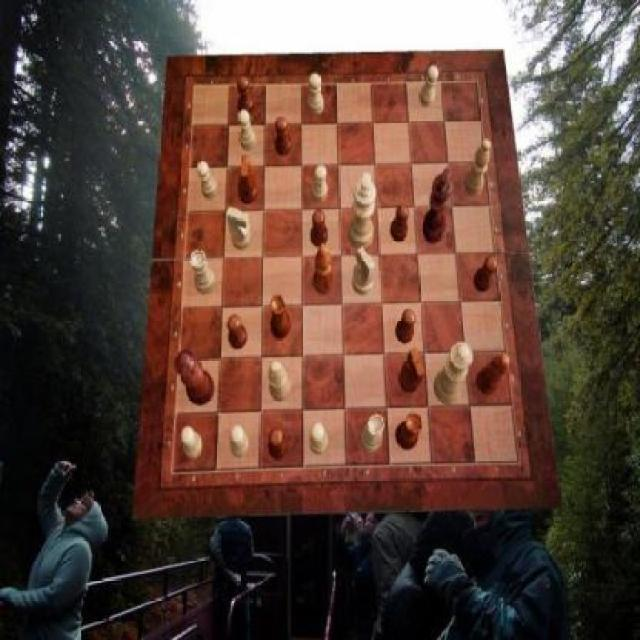bishop: (477, 354, 510, 396), (314, 245, 334, 297)
black-bishop: (423, 169, 454, 244)
black-king: (398, 348, 426, 393), (238, 153, 258, 204)
black-knight: (474, 256, 498, 292), (237, 77, 255, 117), (228, 315, 248, 350), (397, 309, 417, 344), (311, 209, 328, 247), (268, 428, 288, 460), (276, 117, 292, 157), (391, 205, 408, 242)
black-pawn: (176, 350, 216, 406)
black-queen: (395, 412, 423, 451), (270, 294, 292, 339)
black-rook: (464, 139, 492, 196), (270, 362, 292, 402)
white-bishop: (349, 172, 377, 250)
white-king: (352, 247, 376, 296), (228, 208, 252, 250)
white-knight: (238, 109, 258, 151), (420, 65, 440, 106), (197, 162, 218, 199), (182, 426, 202, 460), (310, 165, 328, 202), (308, 74, 324, 115), (230, 424, 248, 458), (310, 423, 328, 455)
white-pawn: (434, 341, 474, 404)
white-queen: (191, 250, 217, 294), (362, 414, 386, 452)
